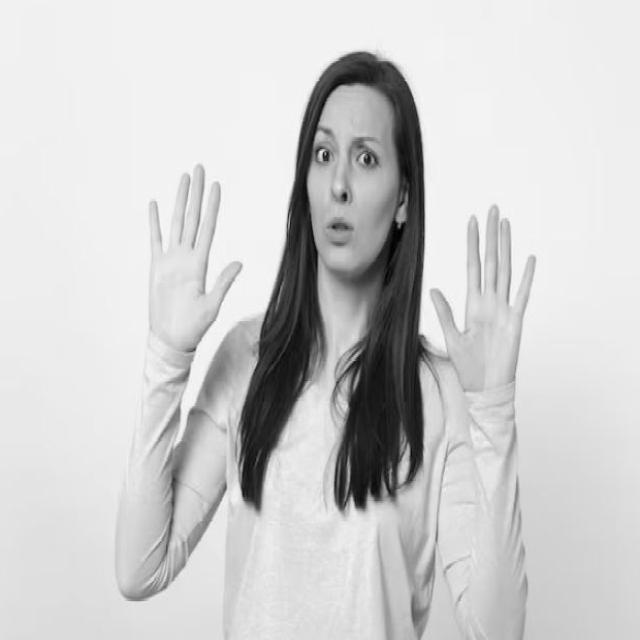stop: (427, 198, 540, 401), (144, 155, 245, 359)
